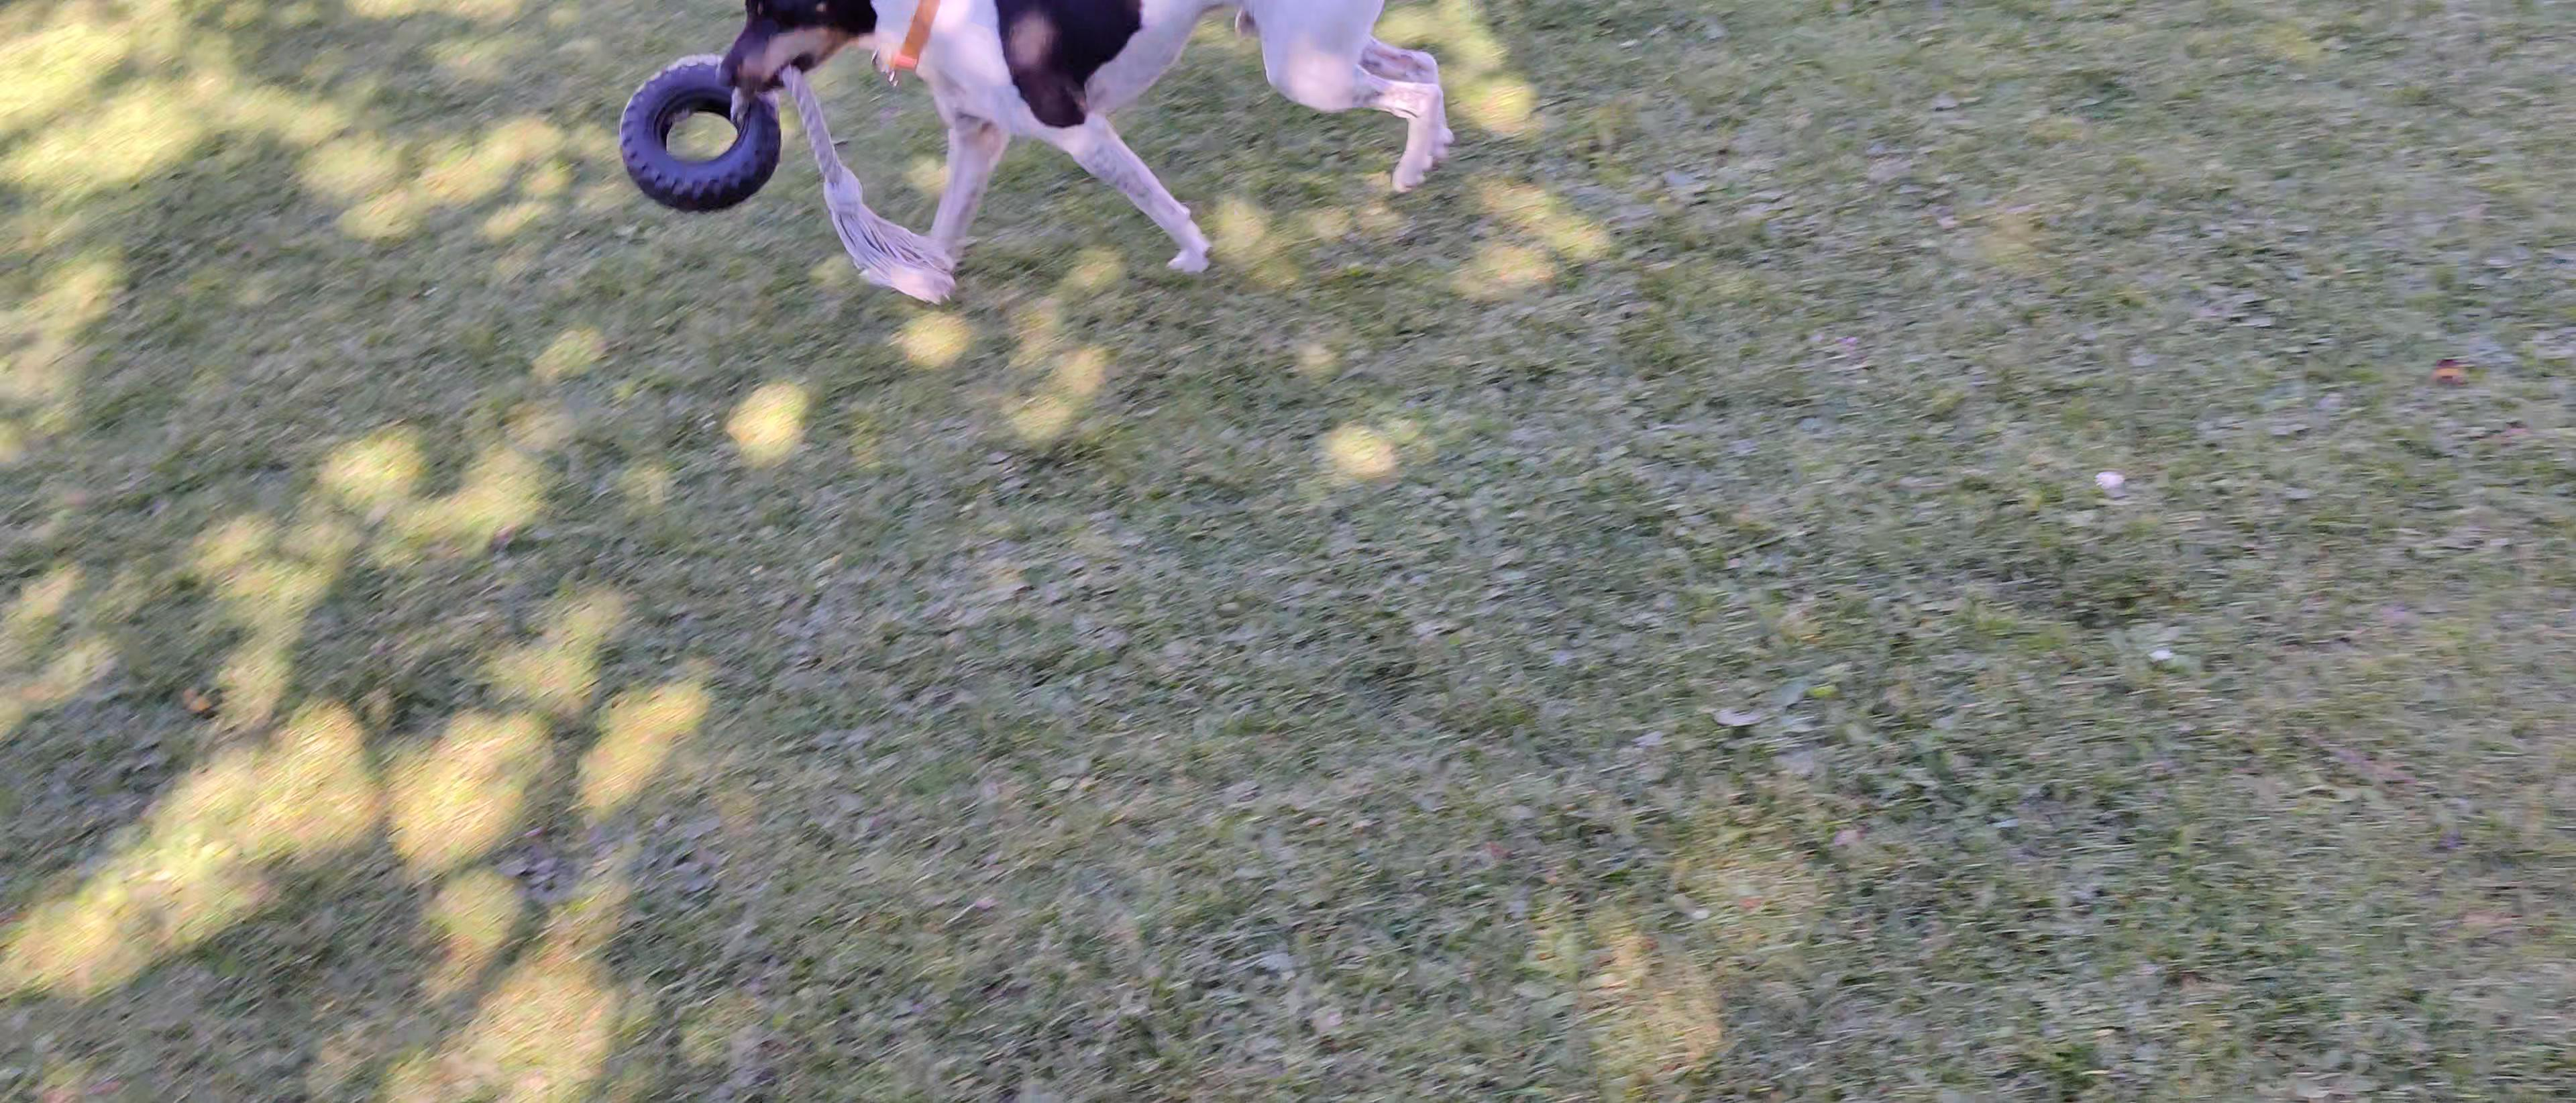Dog: (701, 0, 1469, 283)
